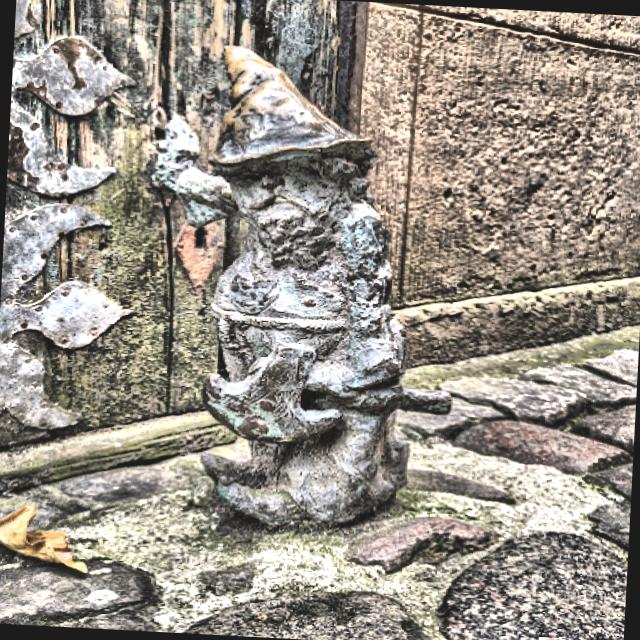Rzeznik: (155, 46, 451, 526)
